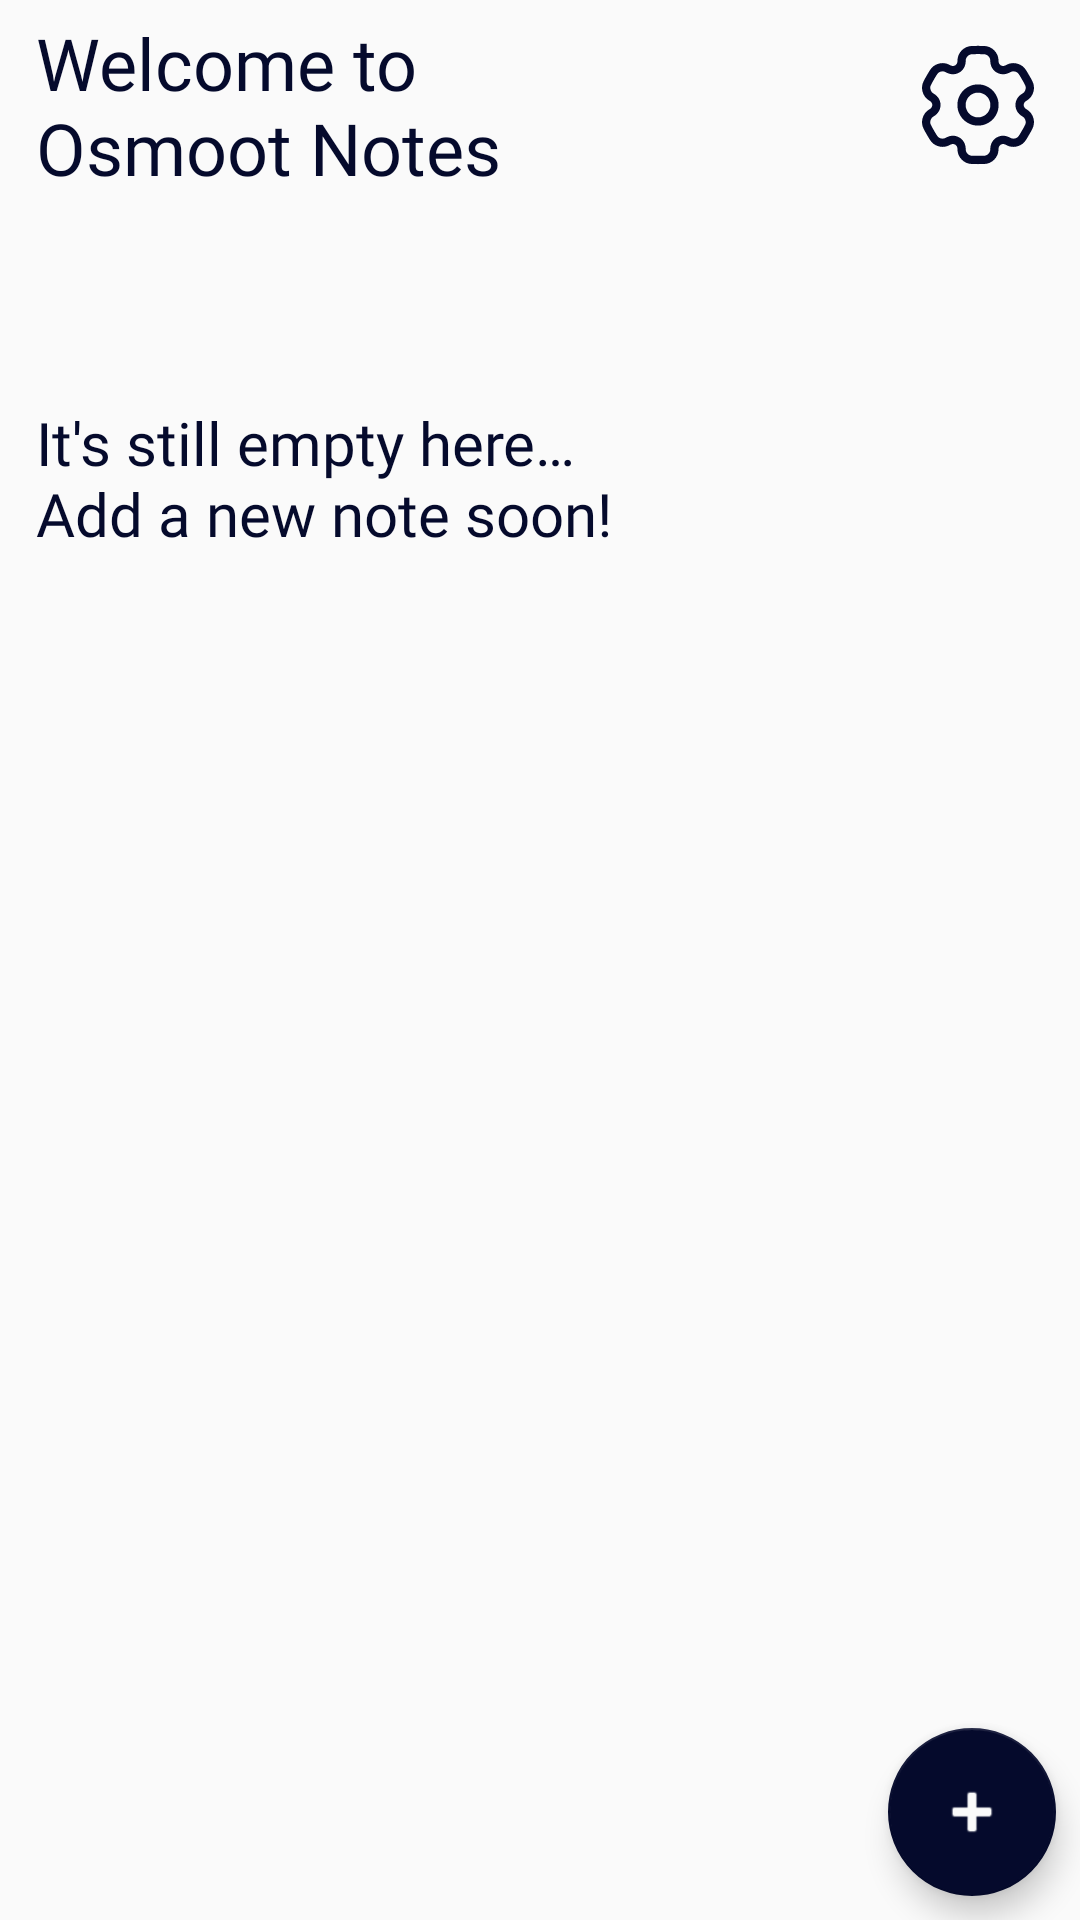

Screen size 1080×1920. Icon name, then its box in pixels as (x1, y1, x2, y2):
Add note button: (888, 1728, 1056, 1896)
Settings: (922, 45, 1034, 164)
